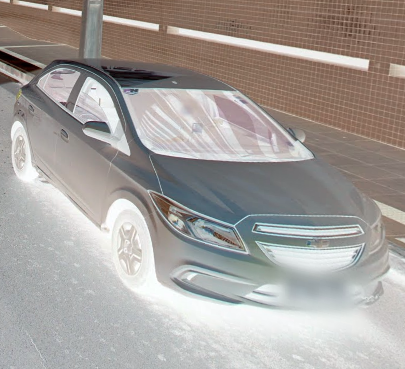car: (8, 55, 391, 323)
